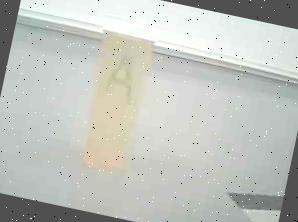Bottle A: (62, 6, 176, 182)
